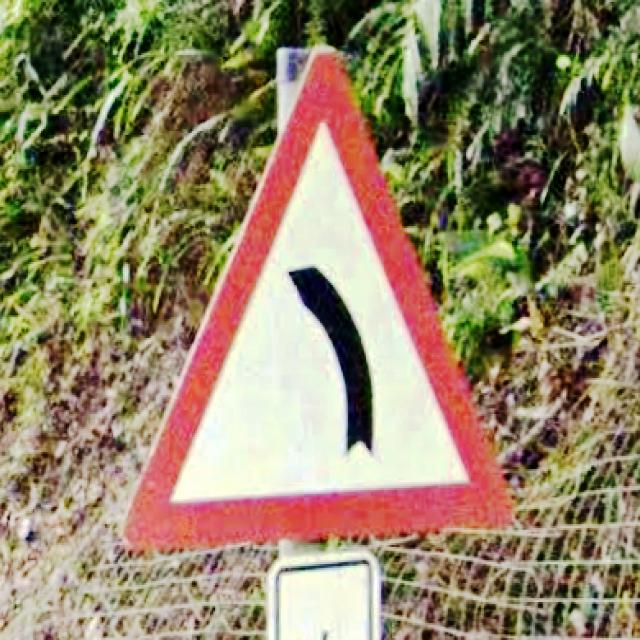leftbend: (123, 49, 514, 553)
